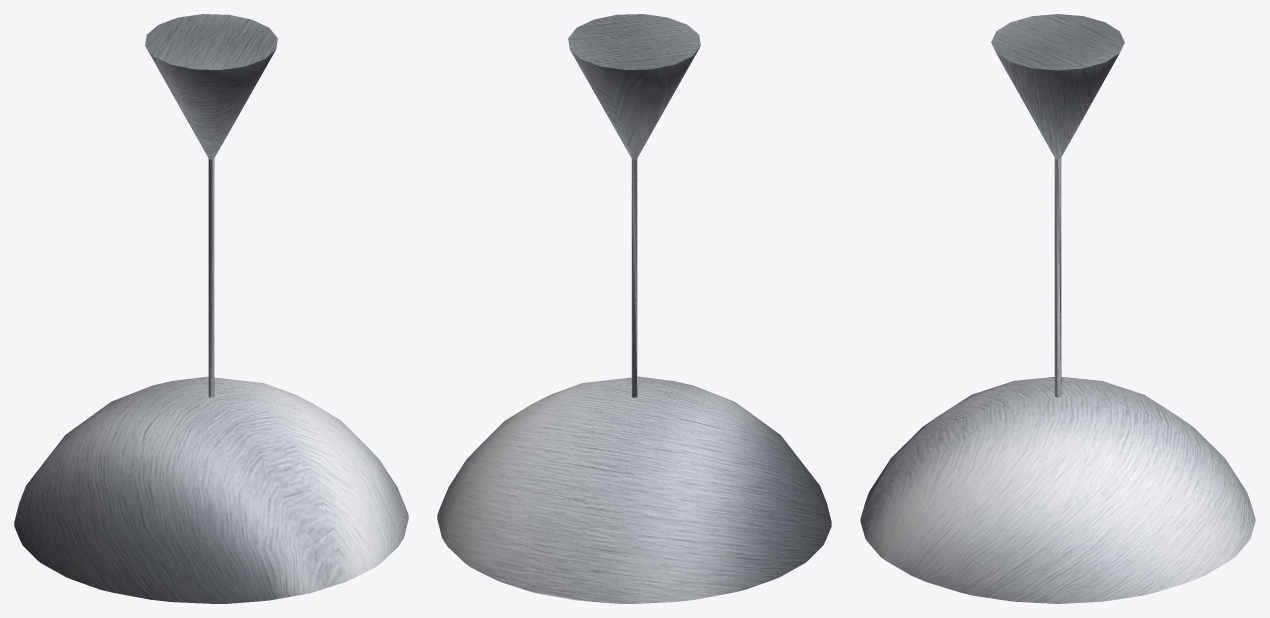
File: pendantLamp.obj
3 renders of one model, left to right at view 1: azimuth 30°, elevation 25°; view 2: azimuth 150°, elevation 25°; view 3: azimuth 270°, elevation 25°, orthographic.
Bounding box in the file's own units: 384 × 512 × 384.
1 material, 1 textured.
